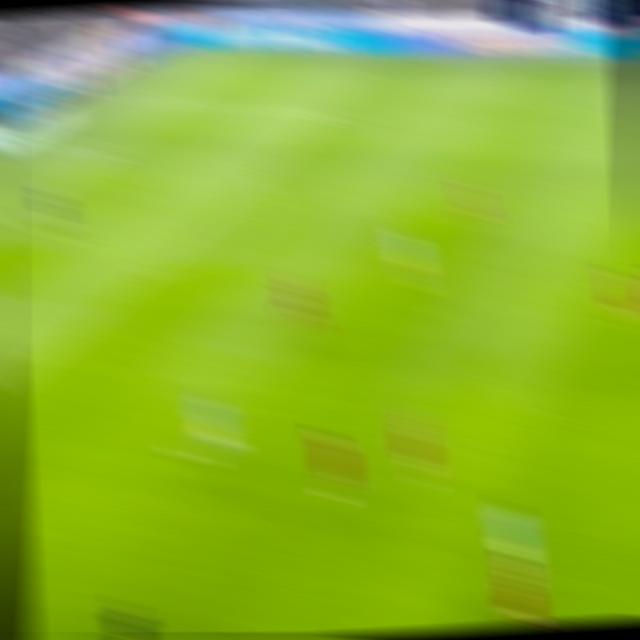bigarea_top_inner: (305, 100, 340, 128)
bigarea_top_outter: (103, 87, 135, 108)
bottom_arc_area_intersection: (127, 257, 161, 284)
corner: (185, 42, 222, 60)
smallarea_top_inner: (92, 142, 126, 166)
smallarea_top_outter: (22, 136, 54, 156)
top_arc_area_intersection: (236, 164, 269, 190)
